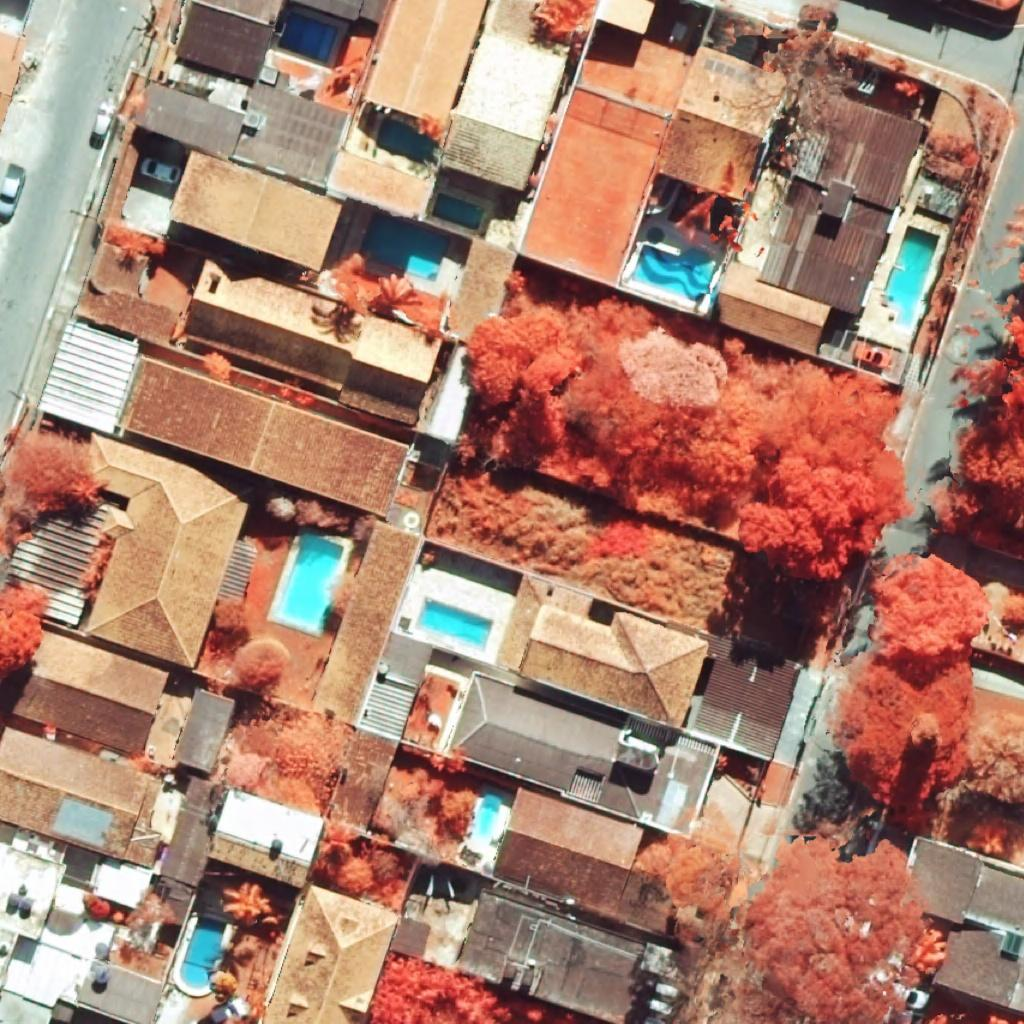pool: (277, 533, 343, 630), (361, 213, 449, 282), (884, 225, 940, 328), (632, 244, 714, 301), (416, 598, 493, 651), (180, 916, 226, 989), (278, 12, 337, 63), (377, 118, 435, 160), (432, 194, 484, 230), (475, 790, 502, 837)
